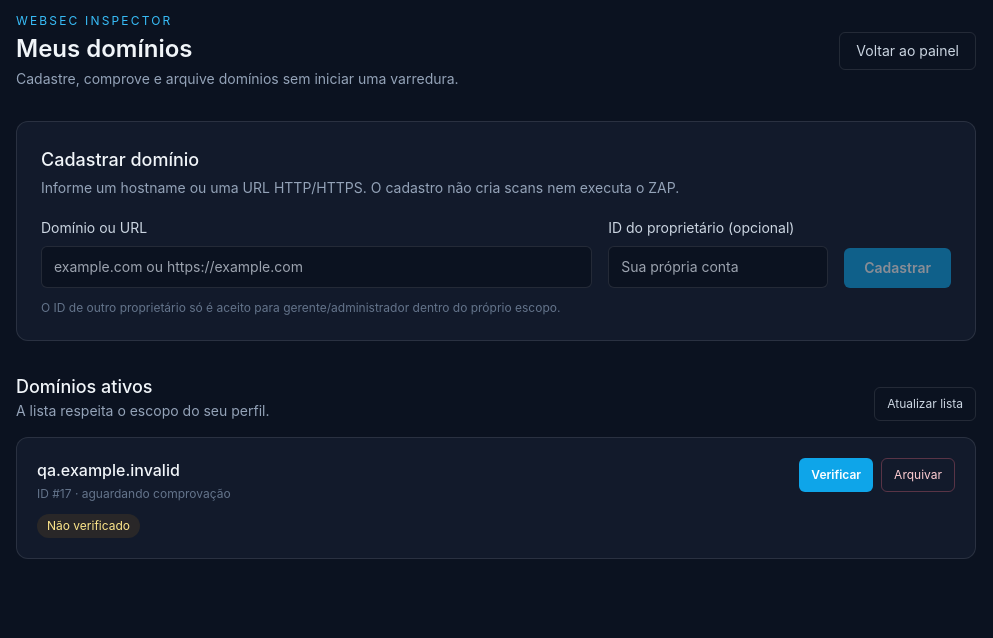
Meus domínios › arquiva após confirmação e trata conflito 409 sem ocultar o domínio
Click the button "Arquivar": (918,475) [881,458,955,492]
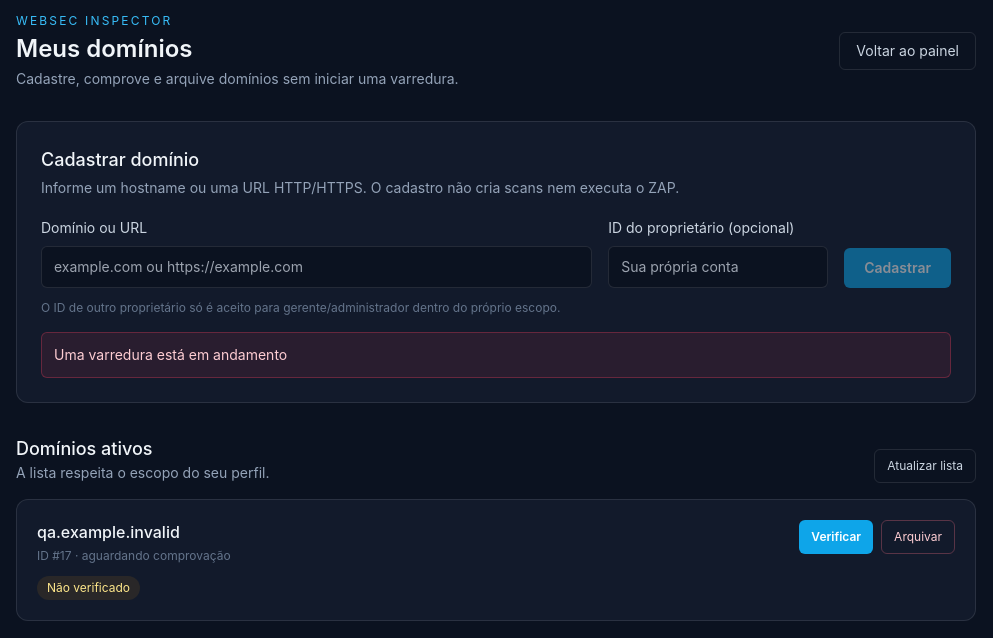
Check: the heading "qa.example.invalid" is shown, box [37,522,180,542]
Check: the message reads "Uma varredura está em andamento", box [54,346,287,363]
